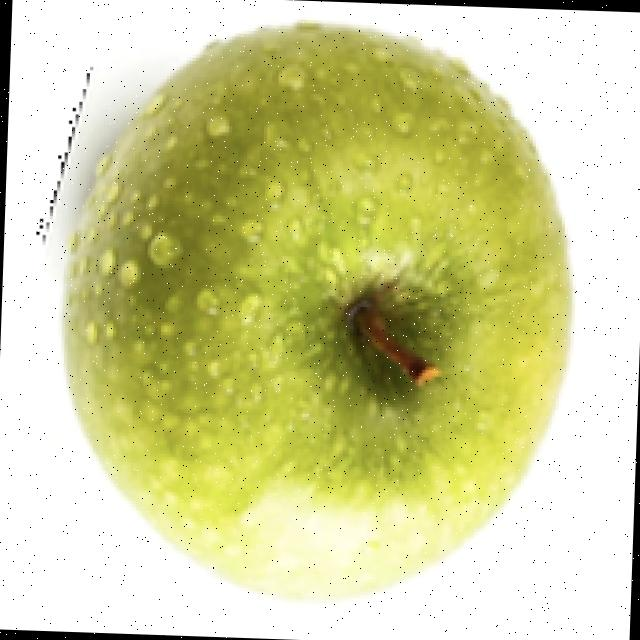apple: (35, 18, 578, 605)
